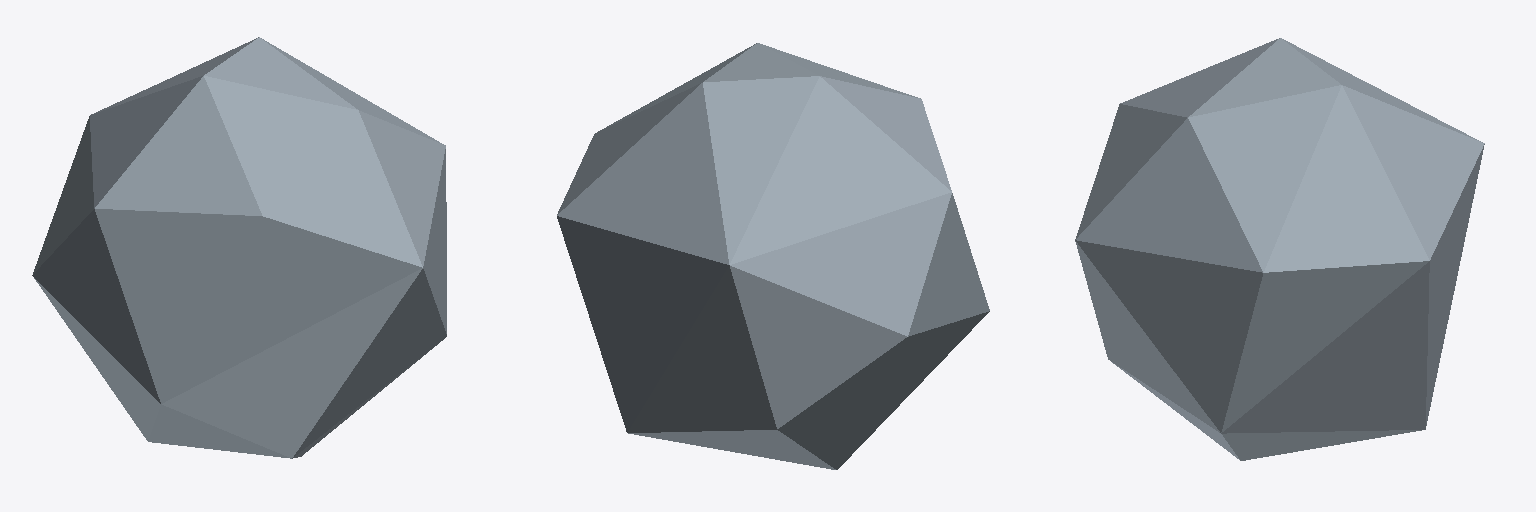
Rendered from moon.obj.
3 renders of one model, left to right at view 1: azimuth 30°, elevation 25°; view 2: azimuth 150°, elevation 25°; view 3: azimuth 270°, elevation 25°, orthographic.
Parts seen in each view (by area): view 1: Sphere; view 2: Sphere; view 3: Sphere.
Boxes of the visible parts, box(x1,y1,x2,y2) form: Sphere: box(32, 37, 446, 458); Sphere: box(557, 43, 989, 469); Sphere: box(1075, 38, 1484, 460).
Bounding box in the file's own units: 2 × 2.02 × 1.95.